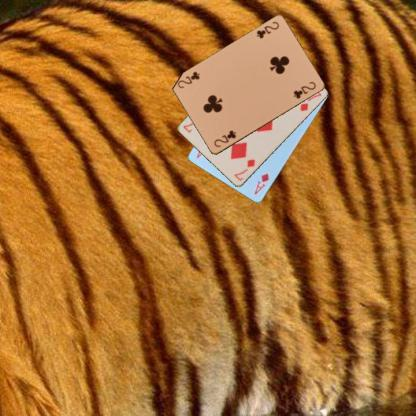2c: (254, 19, 280, 41), (212, 127, 238, 148)
7d: (232, 156, 256, 182)
Ad: (252, 170, 270, 196)
